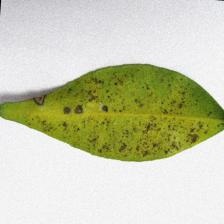canker: (33, 64, 196, 165)
